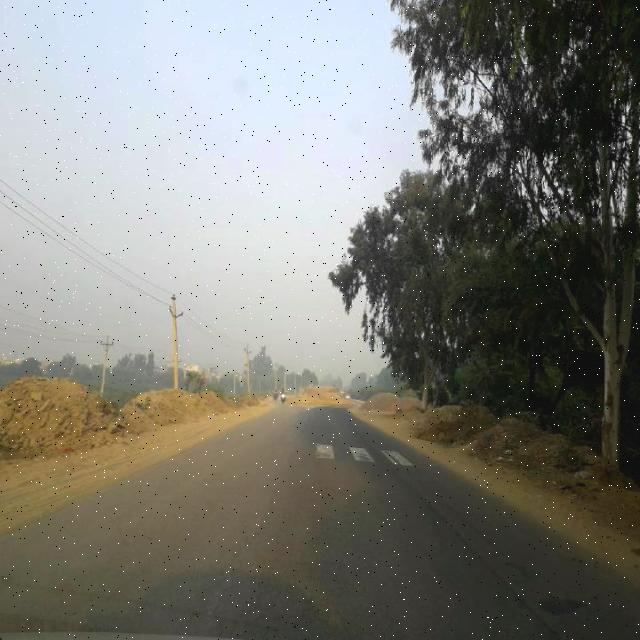D43: (182, 443, 420, 469)
